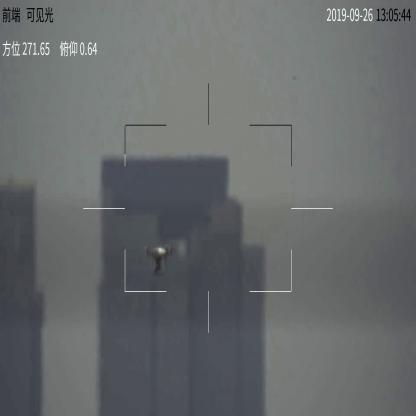uav: (139, 240, 180, 277)
